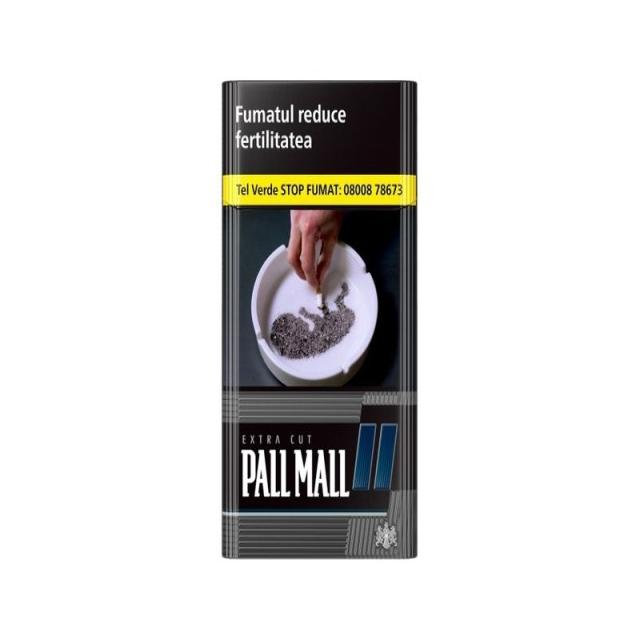pallmall: (220, 74, 418, 556)
